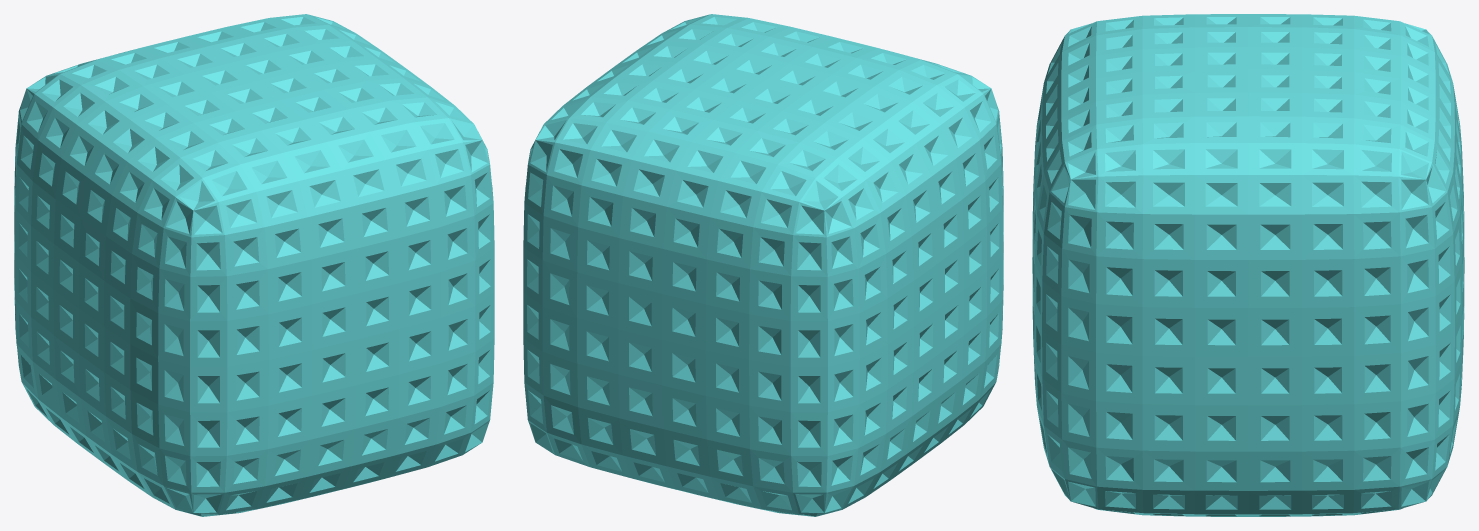
File: ground.fbx
3 renders of one model, left to right at view 1: azimuth 30°, elevation 25°; view 2: azimuth 150°, elevation 25°; view 3: azimuth 270°, elevation 25°, orthographic. The views are drawn at different scales.
Visible parts, largest first — view 1: Cube; view 2: Cube; view 3: Cube.
Boxes of the visible parts, x1=… form: Cube: x1=14, y1=14, x2=494, y2=516; Cube: x1=523, y1=14, x2=1003, y2=516; Cube: x1=1032, y1=14, x2=1464, y2=516.
Size of the model in its own units: 200 by 200 by 200.
